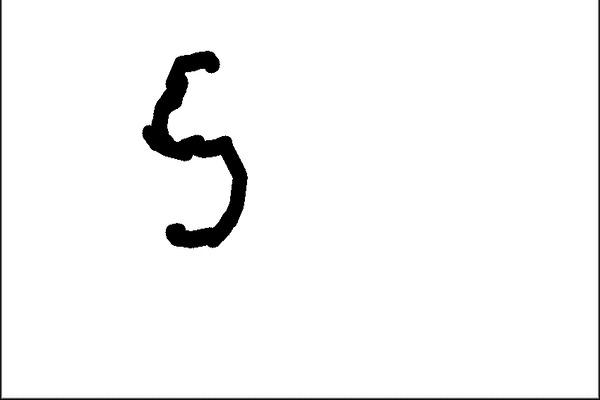S: (134, 46, 253, 254)
